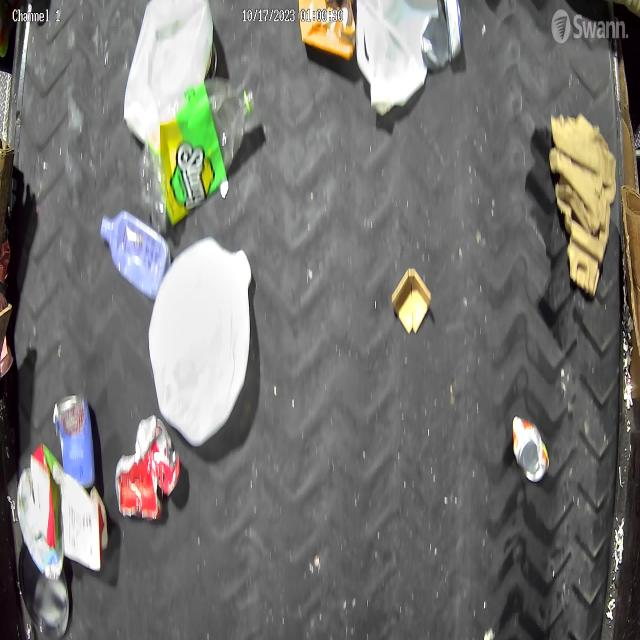milk-jug: (146, 233, 254, 446)
